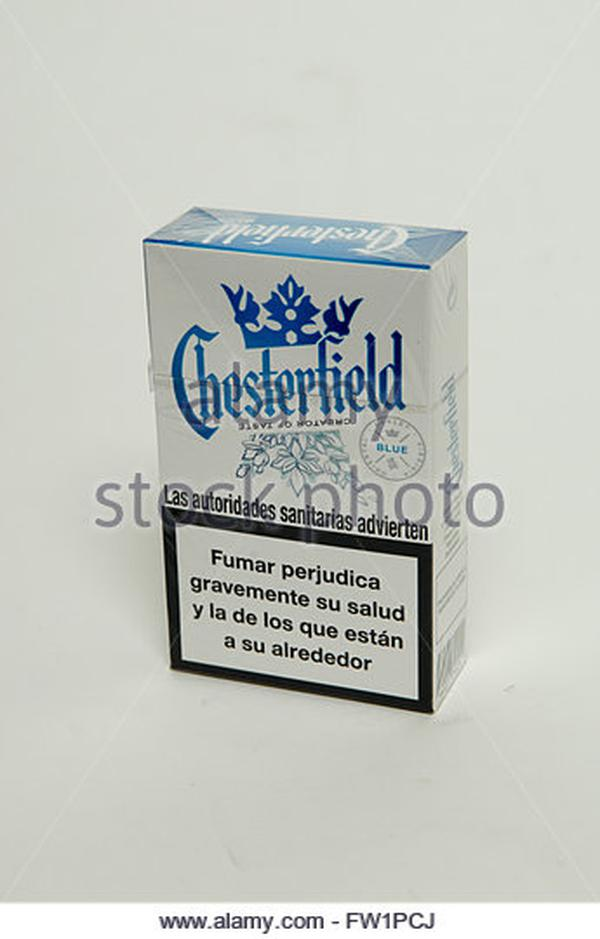chesterfield_blue: (161, 244, 432, 681)
